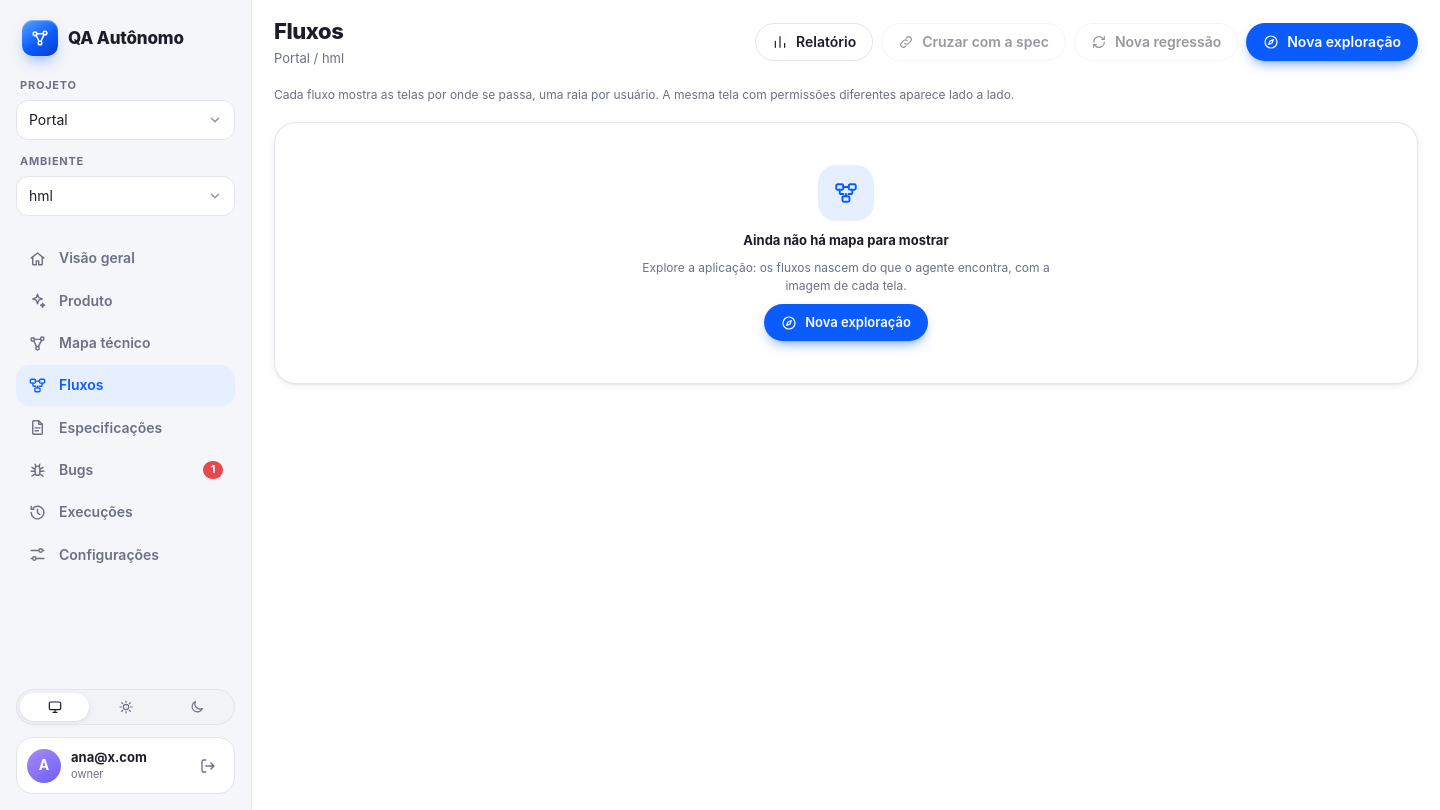
Test: fluxos › convida a explorar quando ainda não há mapa
expect the heading "Ainda não há mapa para mostrar" is shown: met, box [743, 231, 949, 249]
Click the button "Nova exploração" below "Ainda não há mapa para mostrar".
click(846, 323)  # box [764, 304, 928, 341]
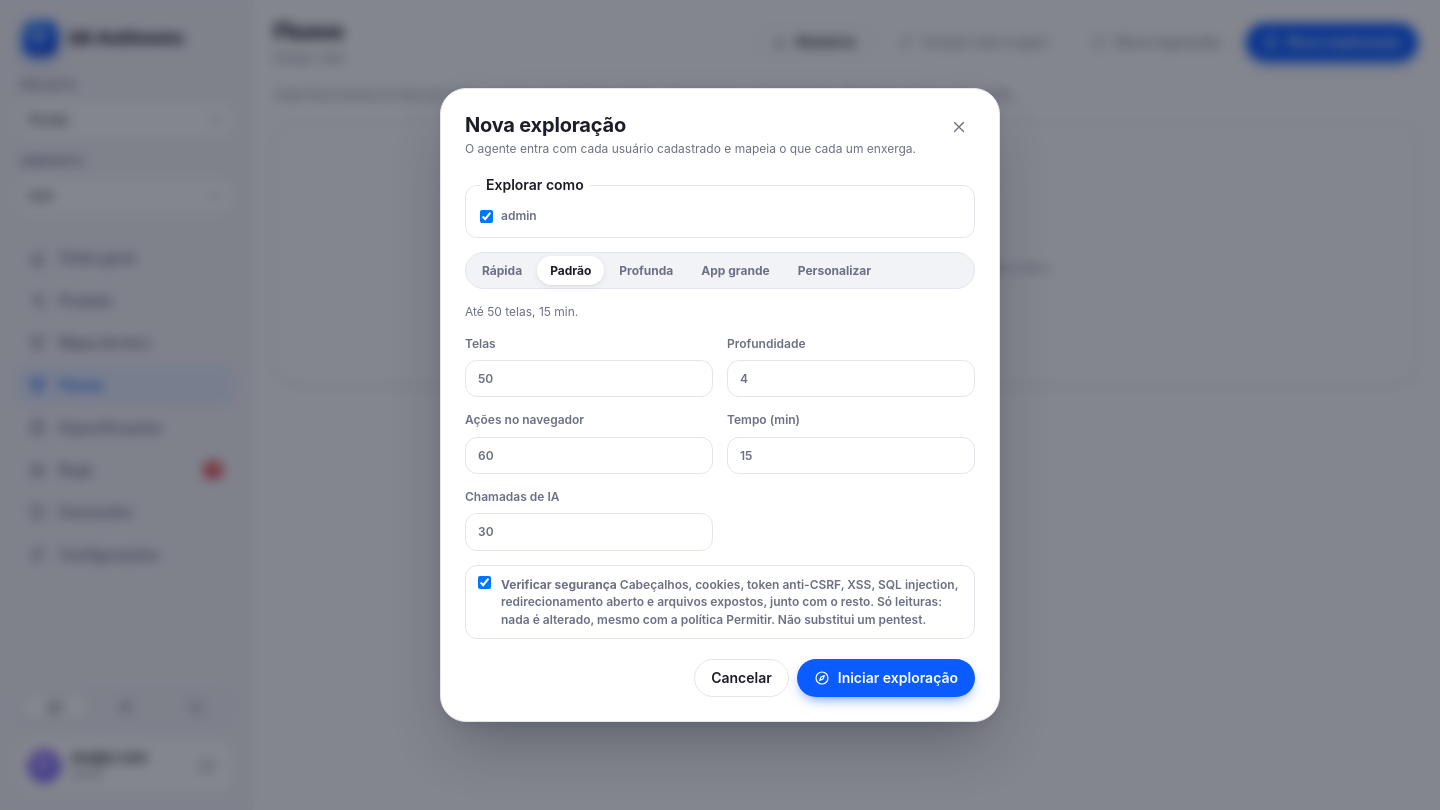
expect the dialog "Nova exploração" is shown: met, box [440, 88, 1000, 722]
